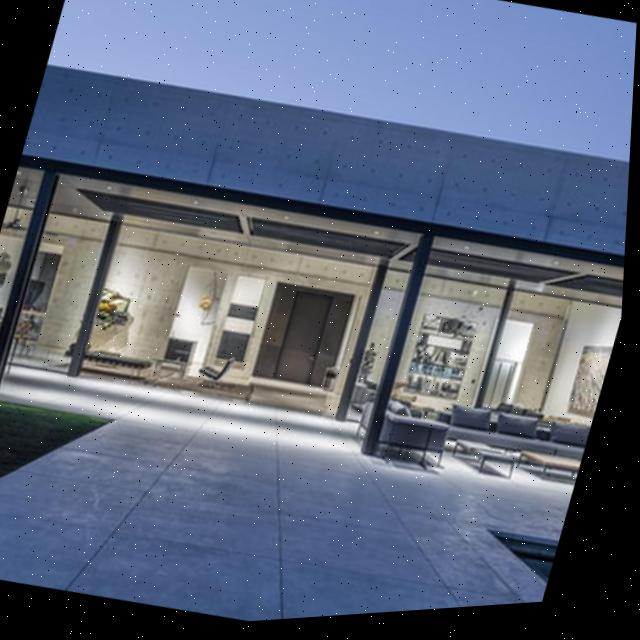building: (0, 23, 637, 499)
